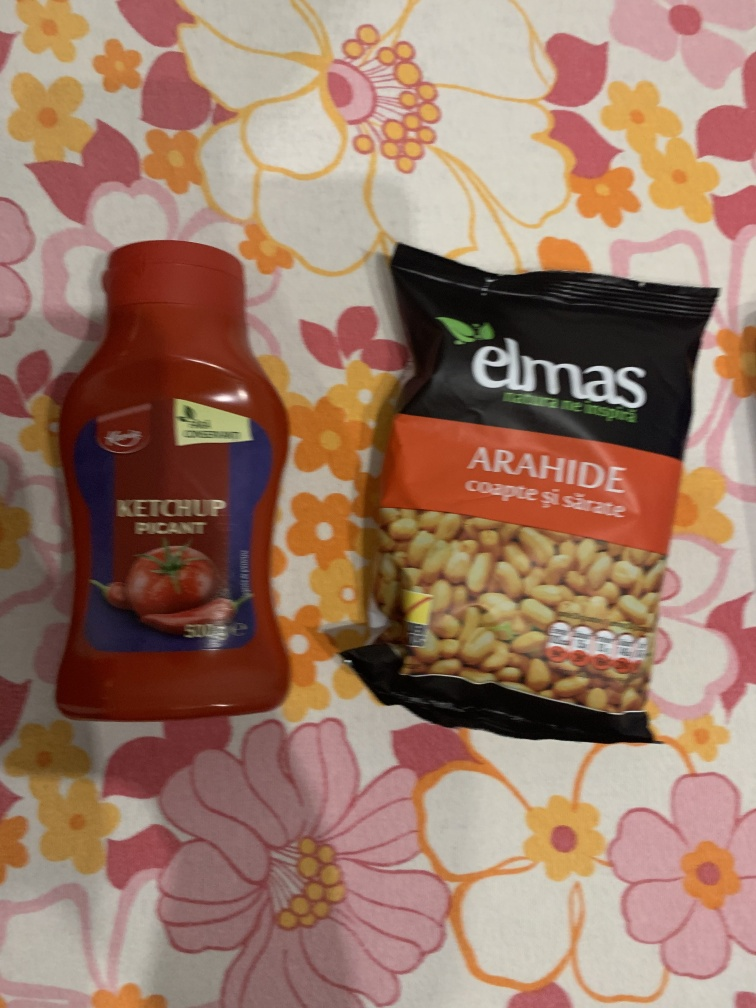ketchup: (56, 239, 296, 738)
peanuts: (342, 238, 724, 774)
